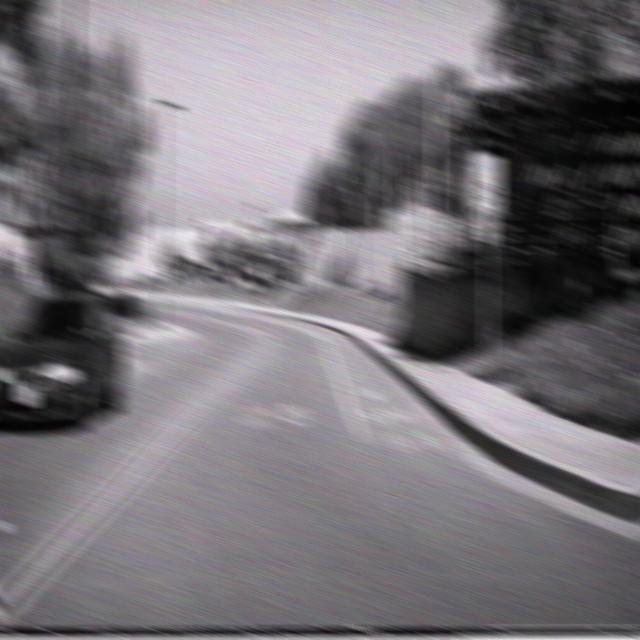speedLimit25: (473, 153, 501, 210)
